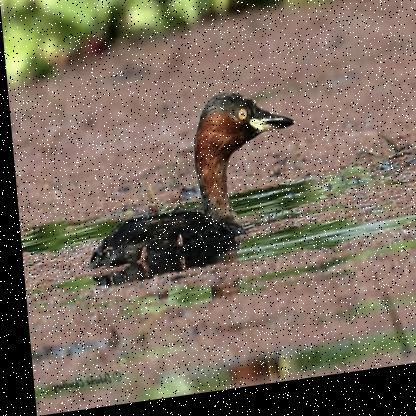Burung: (76, 90, 301, 272)
